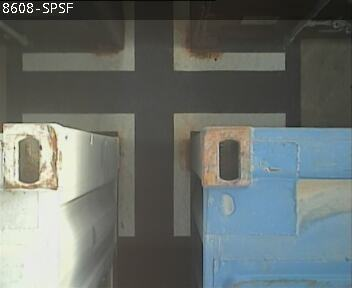groundmarker_1: (20, 112, 287, 237), (21, 1, 285, 71)
